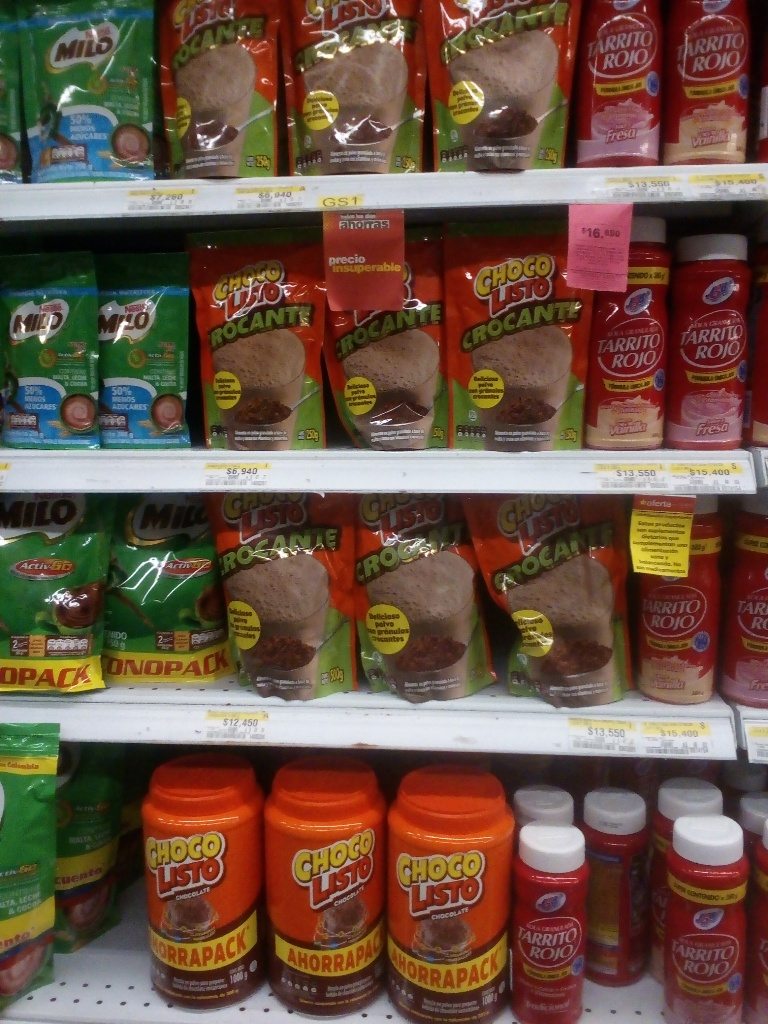COL0170102DYP25000: (162, 0, 282, 177)
COL0170102DYP50000: (210, 487, 358, 700)
COL0170103TRR00100: (131, 755, 266, 1011)
COL0170205DYP20000: (15, 6, 157, 184)
